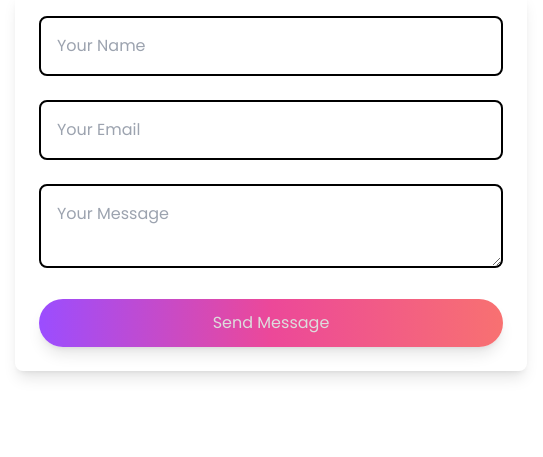
Test case: Form Component › shows validation errors when the form is submitted with missing data
Click the button "Send Message" at (271, 323), box [39,299,503,347]
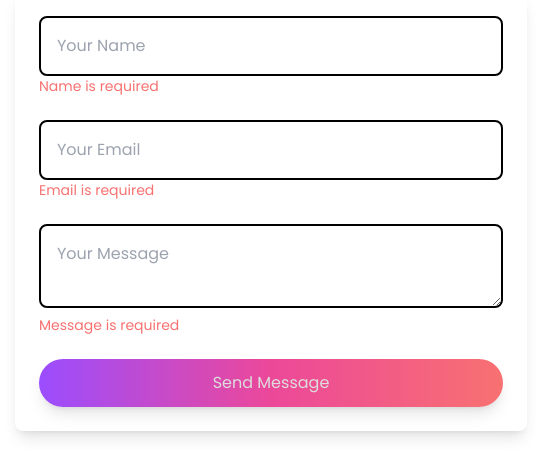
Expected: the text "Name is required" is shown, [39,76,159,96]
Expected: the text "Email is required" is shown, [39,180,154,200]
Expected: the text "Message is required" is shown, [39,315,179,335]
